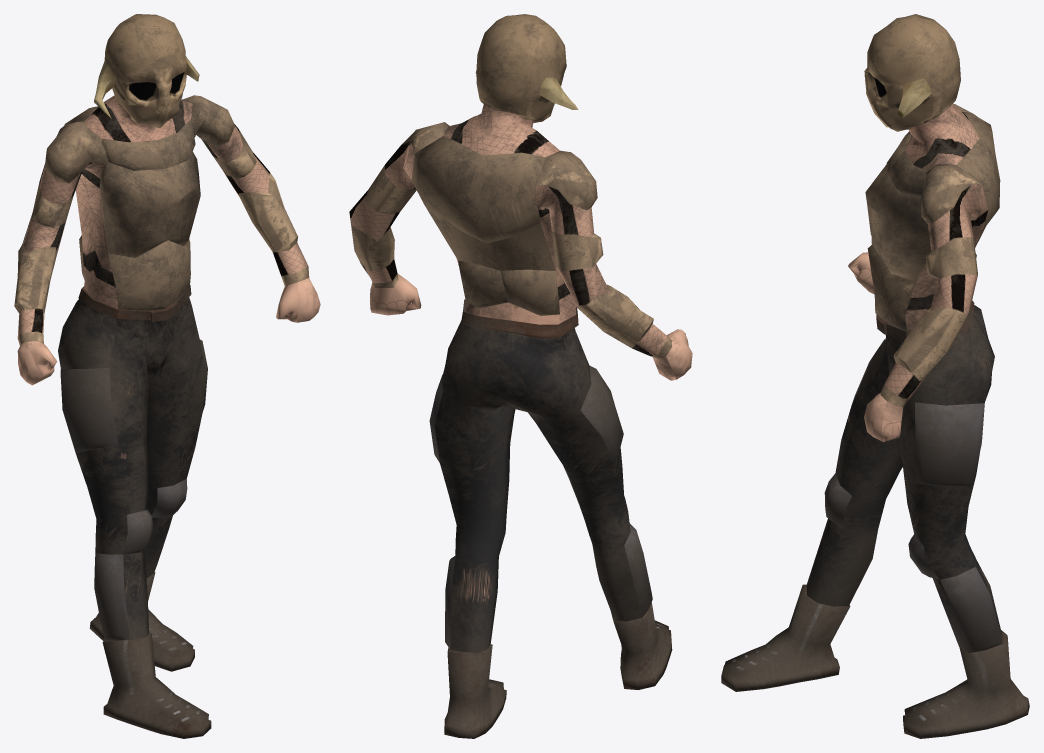
Rendered from Anim_interruptor_npc1.0020.obj.
The picture shows the model from 3 angles, left to right: view 1: azimuth 30°, elevation 25°; view 2: azimuth 150°, elevation 25°; view 3: azimuth 270°, elevation 25°; orthographic projection. The views are drawn at different scales.
Parts seen in each view (by area): view 1: NPC2; view 2: NPC2; view 3: NPC2.
Boxes of the visible parts, <box> form: NPC2: <box>14,14,320,738</box>; NPC2: <box>349,14,692,738</box>; NPC2: <box>721,14,1029,738</box>.
Bounding box in the file's own units: 4.52 × 9.5 × 3.83.
